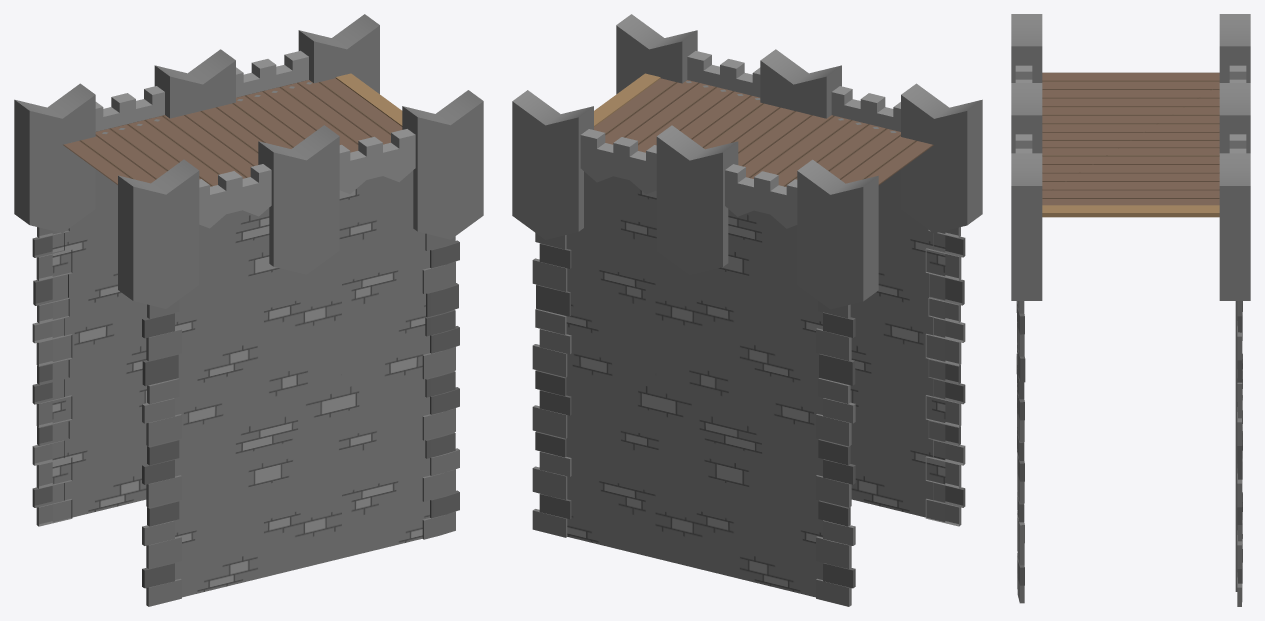
The model's file is wall2.gltf.
The picture shows the model from 3 angles, left to right: view 1: azimuth 30°, elevation 25°; view 2: azimuth 150°, elevation 25°; view 3: azimuth 270°, elevation 25°; orthographic projection.
Parts seen in each view (by area): view 1: wall2; view 2: wall2; view 3: wall2.
Part boxes in pixels (<box>): wall2: <box>14,14,483,606</box>; wall2: <box>512,14,982,606</box>; wall2: <box>1011,14,1250,606</box>.
Size of the model in its own units: 11.47 by 13.35 by 6.75.
7 materials, 2 textured.
